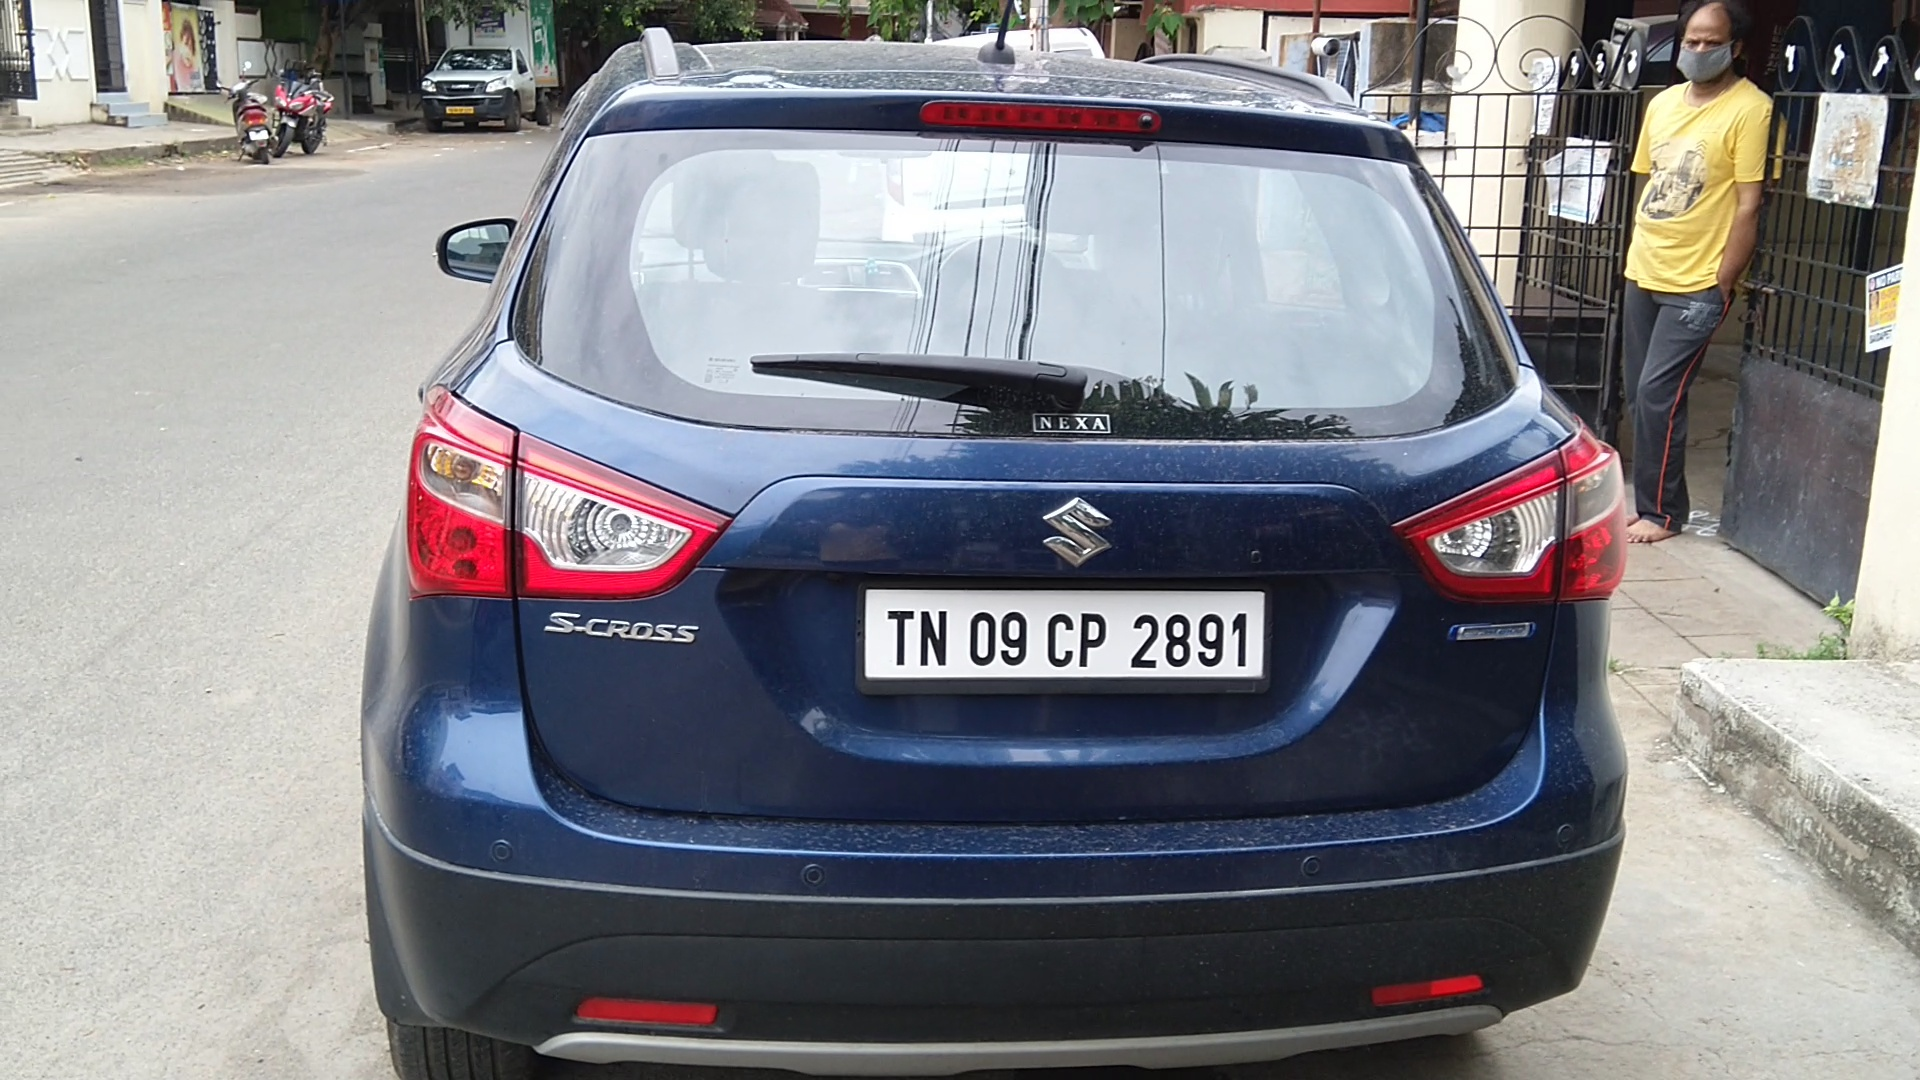rear_camera: (1129, 102, 1167, 140)
shvs: (1441, 608, 1547, 658)
